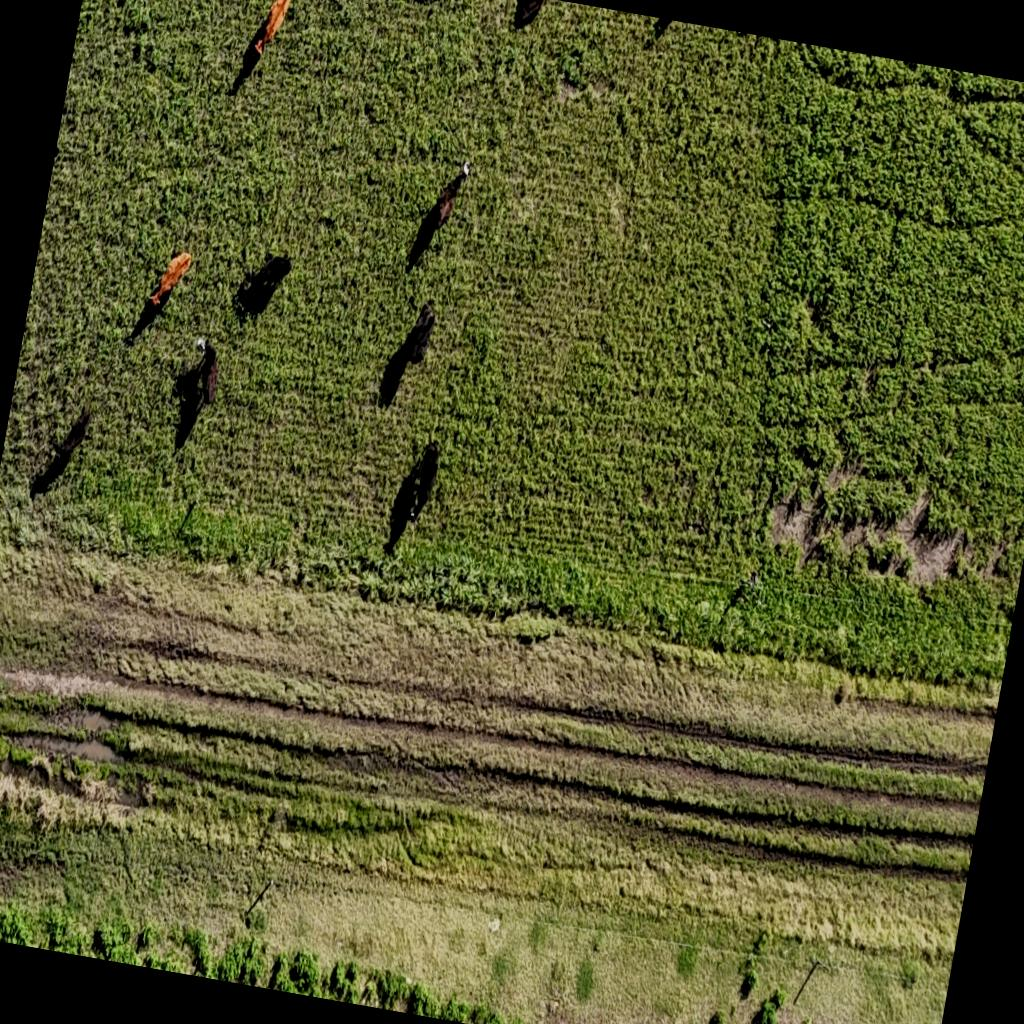cow: (382, 457, 428, 559), (232, 250, 292, 324), (428, 156, 472, 237), (146, 245, 194, 316), (49, 400, 95, 472), (408, 438, 444, 524), (400, 300, 439, 372), (250, 0, 293, 61), (126, 290, 167, 350), (191, 340, 225, 410), (172, 348, 210, 408), (555, 74, 587, 108), (511, 0, 546, 31), (652, 18, 676, 44), (404, 0, 455, 8)
